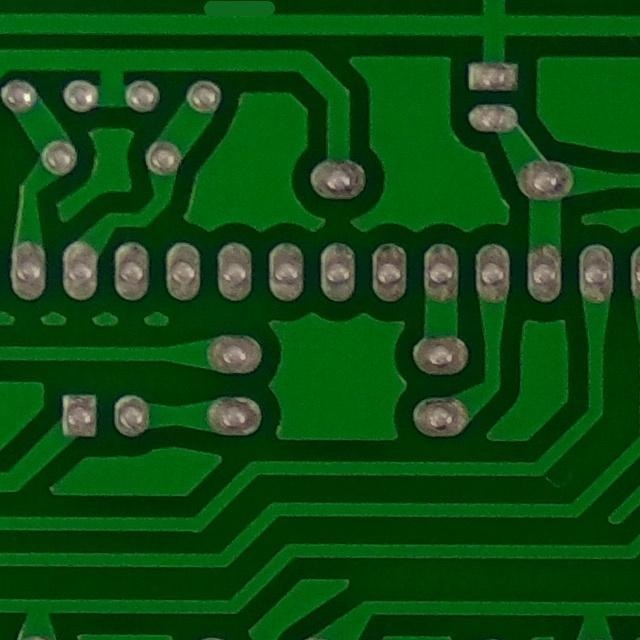spur: (191, 0, 291, 32)
